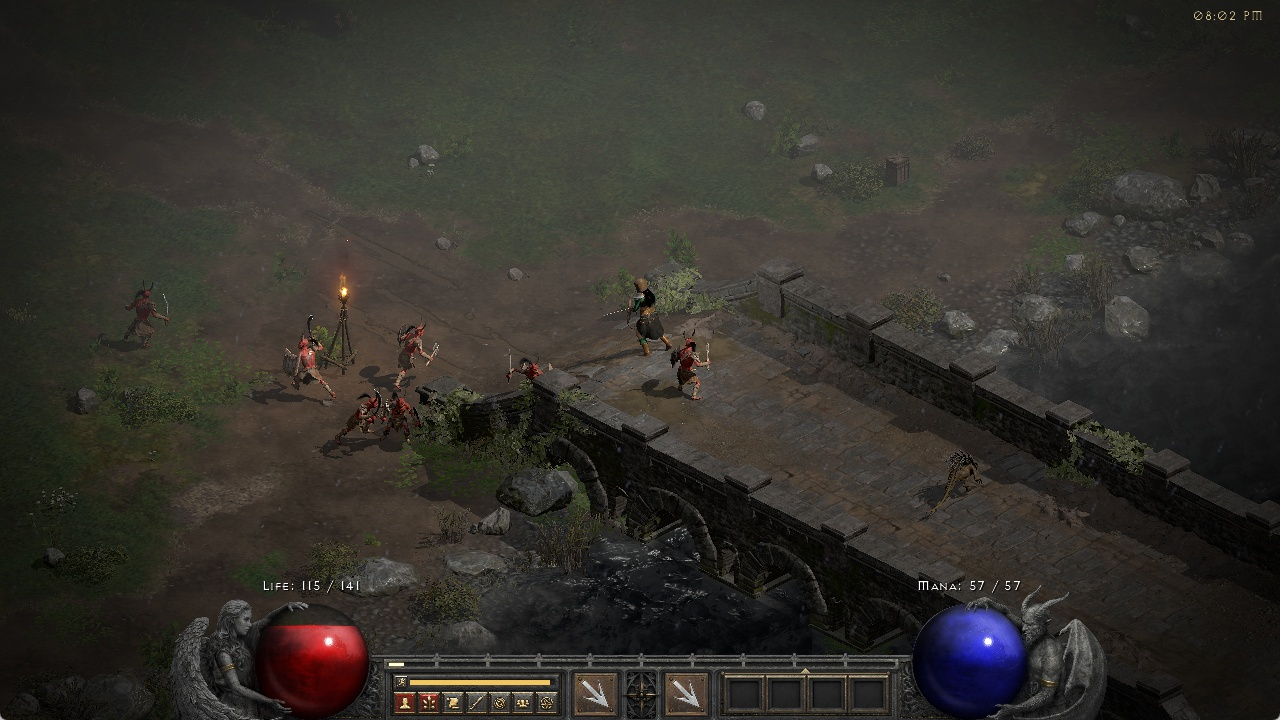fallen: (121, 281, 171, 352), (662, 330, 718, 392), (389, 322, 442, 384), (289, 324, 335, 395), (384, 386, 419, 444), (341, 395, 382, 441), (507, 350, 553, 382)
